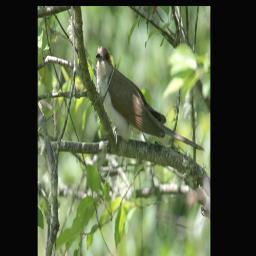Cuckoo: (96, 44, 206, 156)
